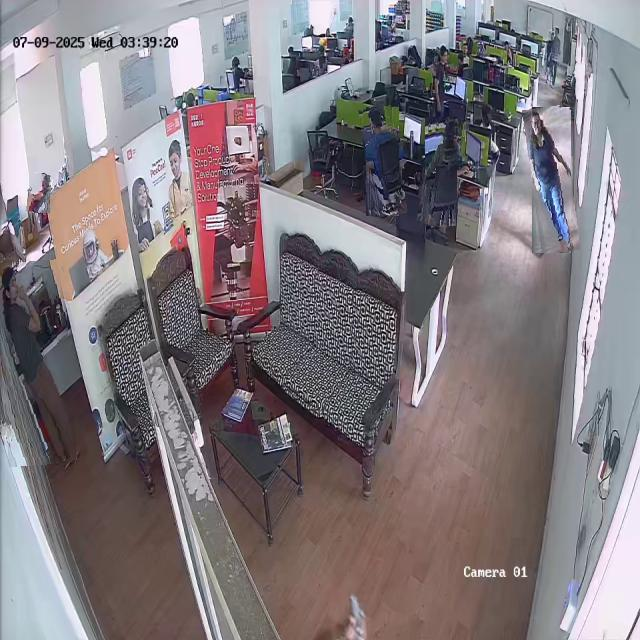person: (0, 259, 73, 466), (527, 106, 576, 254), (362, 106, 403, 217), (421, 116, 461, 227), (433, 46, 451, 118), (27, 173, 52, 214), (552, 28, 561, 86), (544, 30, 553, 75)
